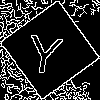Y: (25, 25, 66, 76)
